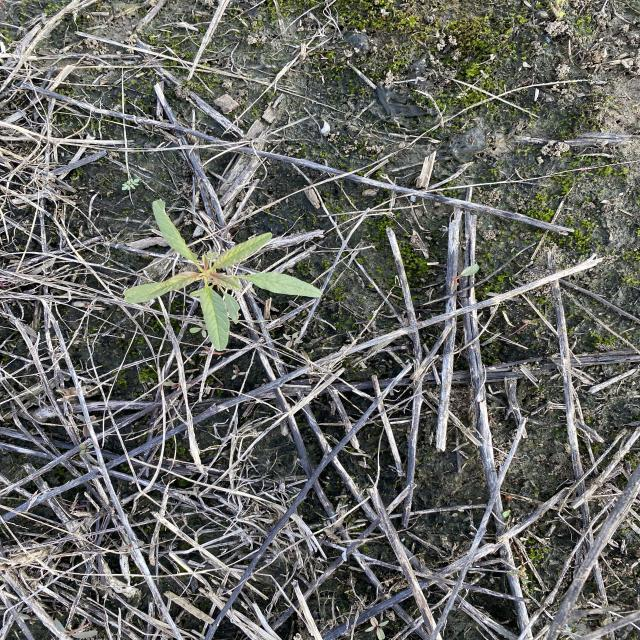Waterhemp: (121, 198, 325, 353)
